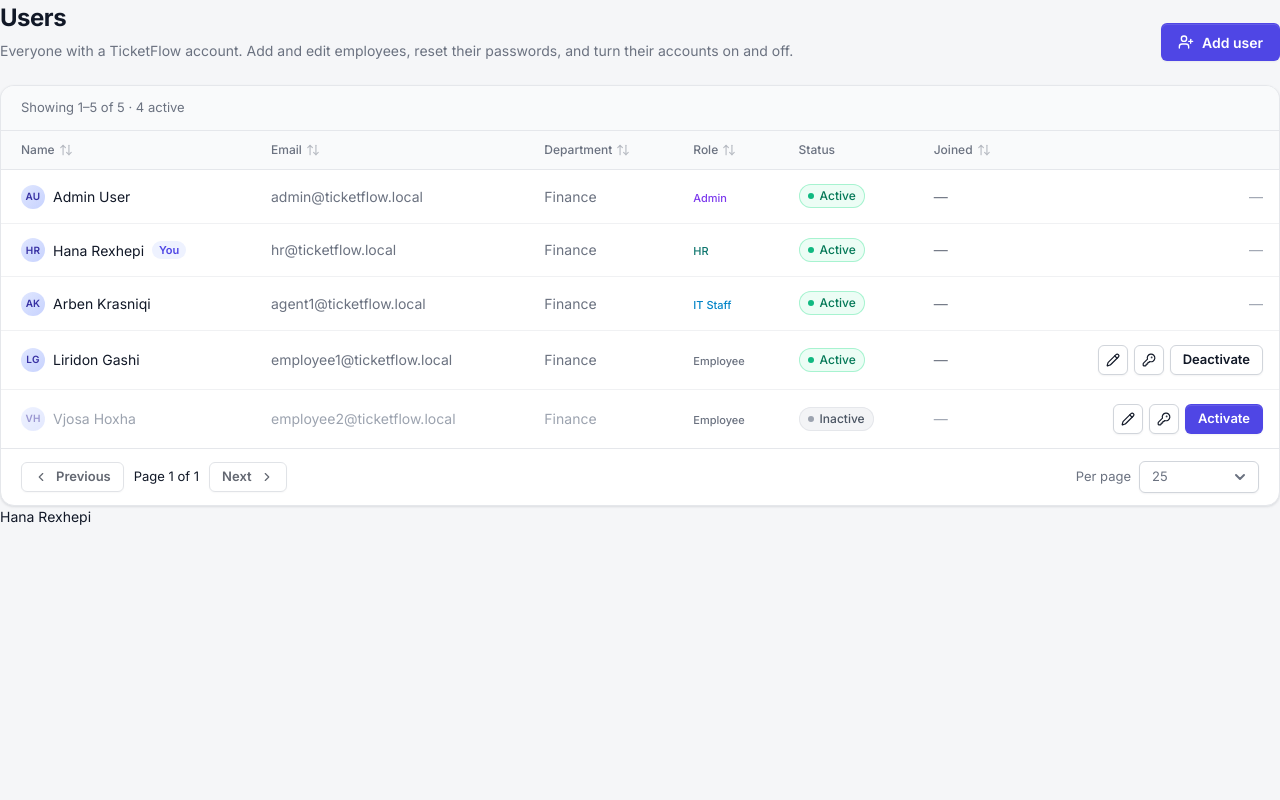
Test case: Edit user form › HR edits an employee without a role field
This screenshot has width=1280, height=800.
Expected: the table is shown, x1=1 y1=131 x2=1279 y2=448
Step 1. Click the button named "Edit Liridon Gashi" → coordinates (1113, 360), box x1=1098 y1=344 x2=1128 y2=374
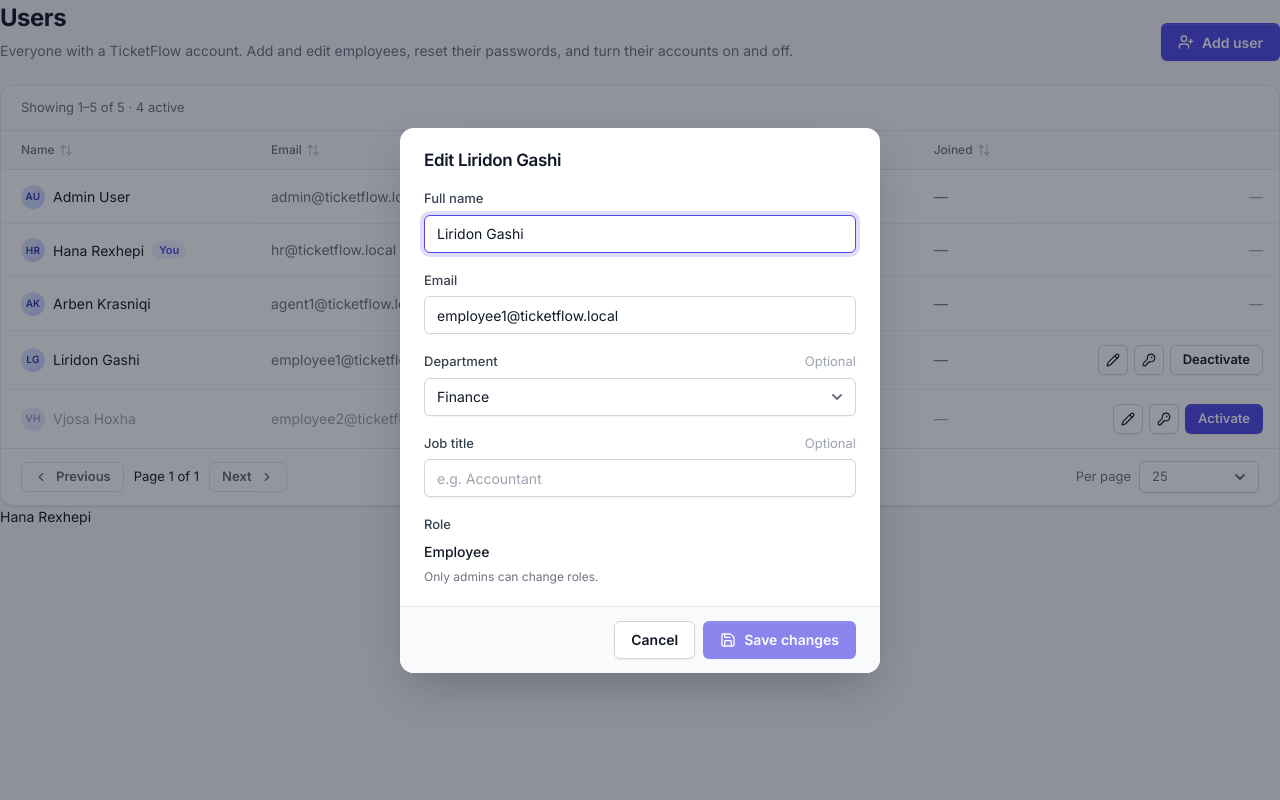
Step 2. Replace the text in the field labelled "Full name" with "Liridon G." → coordinates (640, 234), box x1=424 y1=214 x2=856 y2=252
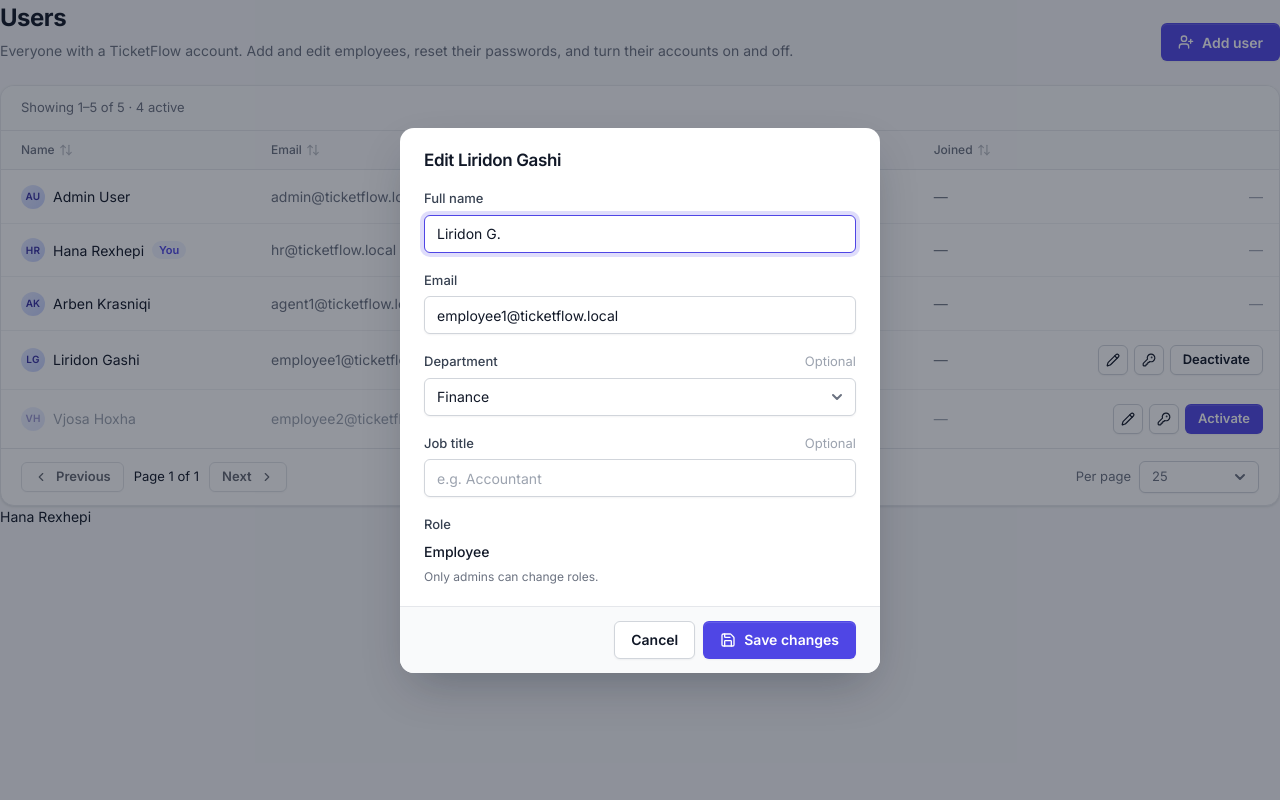
Step 3. Click the button "Save changes" → coordinates (780, 640), box x1=703 y1=620 x2=856 y2=658
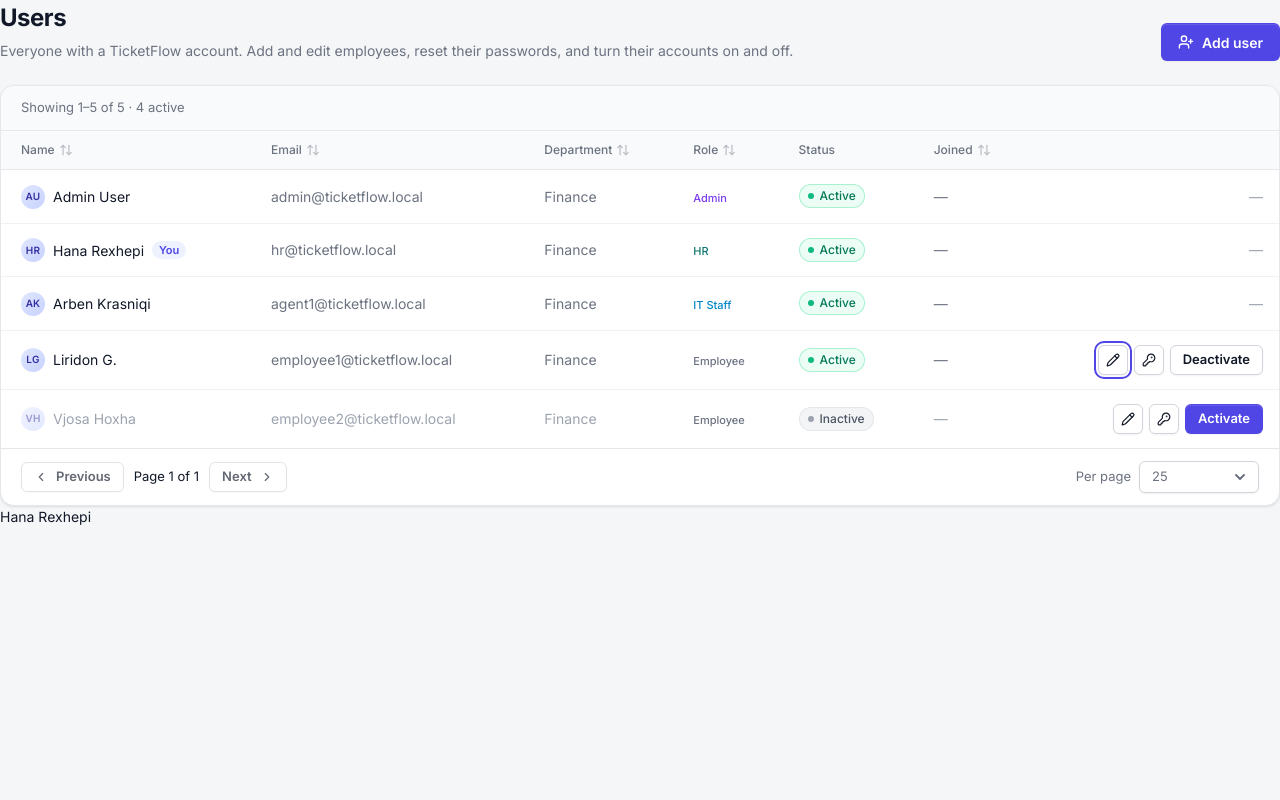
Expected: the cell "LG Liridon G." is shown, x1=1 y1=330 x2=255 y2=389
